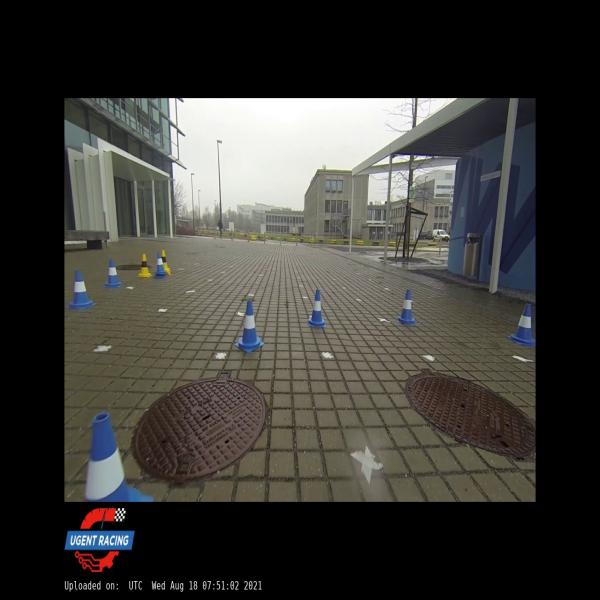blue_cone: (85, 413, 153, 501), (232, 300, 264, 352), (508, 304, 536, 345), (65, 270, 95, 308), (397, 290, 415, 325), (308, 290, 325, 327), (104, 260, 121, 288), (154, 252, 166, 278)
yellow_cone: (137, 253, 152, 278), (158, 250, 172, 274)
